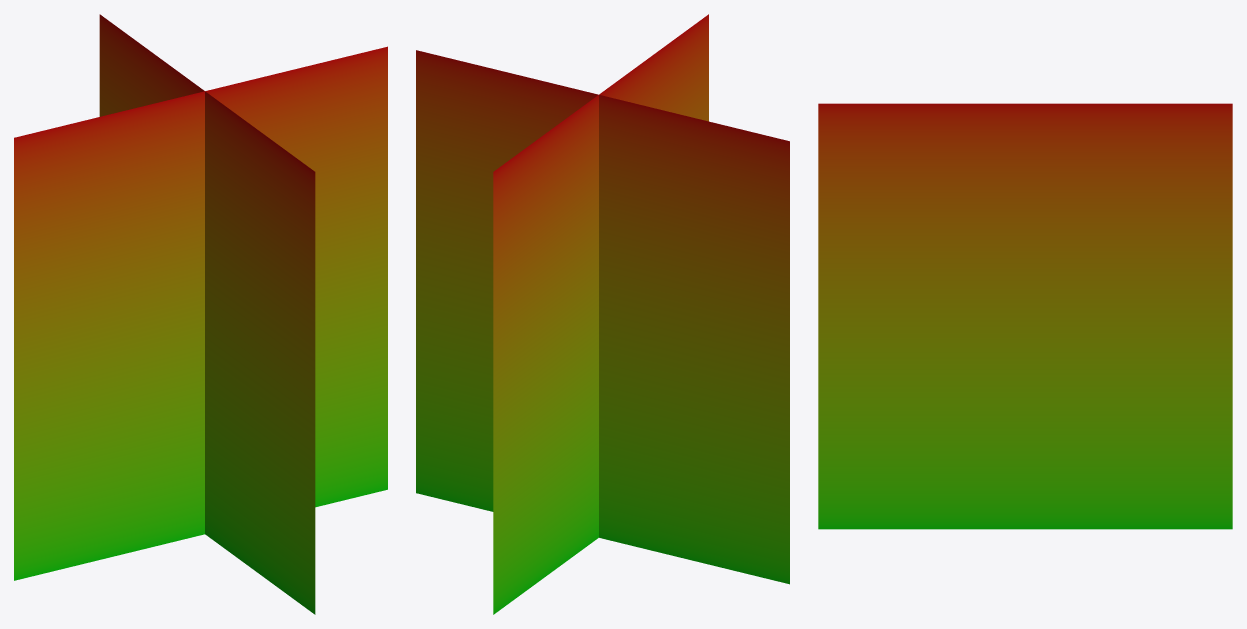
The model's file is Var10_LOD5.fbx.
The picture shows the model from 3 angles, left to right: view 1: azimuth 30°, elevation 25°; view 2: azimuth 150°, elevation 25°; view 3: azimuth 270°, elevation 25°; orthographic projection. The views are drawn at different scales.
Parts seen in each view (by area): view 1: _0dae_Var10_LOD5; view 2: _0dae_Var10_LOD5; view 3: _0dae_Var10_LOD5.
Part boxes in pixels (x1,y1,x2,y2): _0dae_Var10_LOD5: (14, 14, 387, 614); _0dae_Var10_LOD5: (416, 14, 789, 614); _0dae_Var10_LOD5: (818, 103, 1232, 529).
Size of the model in its own units: 16.18 by 18.33 by 16.18.
